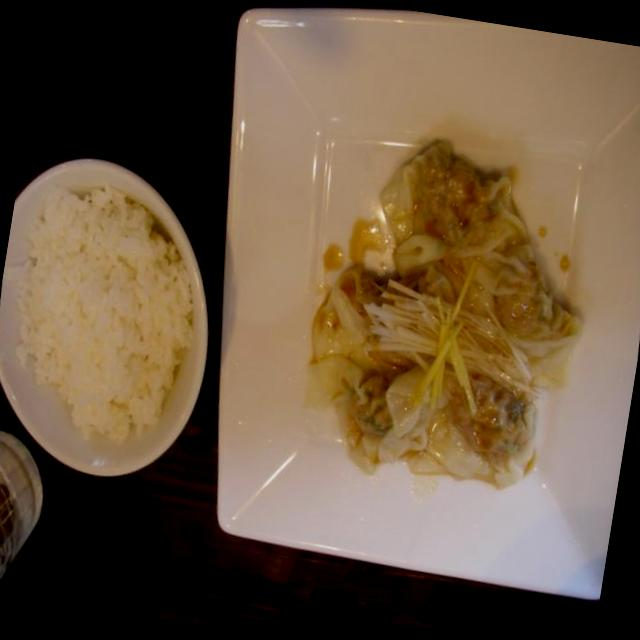Rice: (0, 160, 223, 518)
